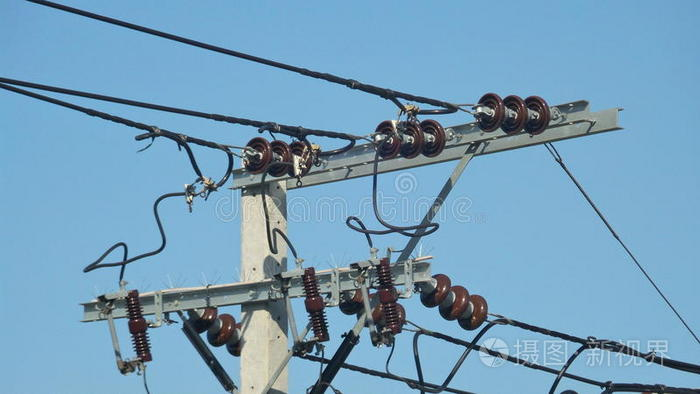insulator: (418, 275, 488, 330), (476, 91, 549, 136), (243, 136, 315, 177), (374, 120, 447, 160), (186, 307, 241, 355), (339, 286, 382, 331)
